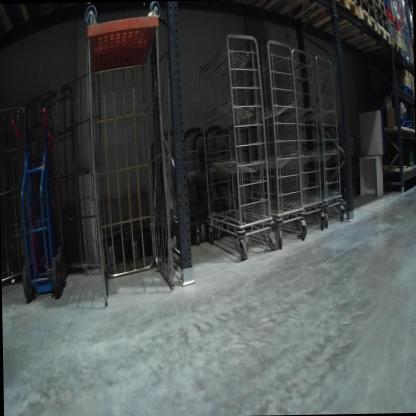pallet: (297, 0, 359, 36), (344, 23, 393, 58), (327, 11, 378, 40), (387, 80, 414, 102), (394, 42, 412, 65), (360, 1, 379, 21), (375, 5, 389, 22), (378, 14, 390, 33), (386, 40, 405, 52), (356, 0, 377, 8), (376, 0, 388, 12)
